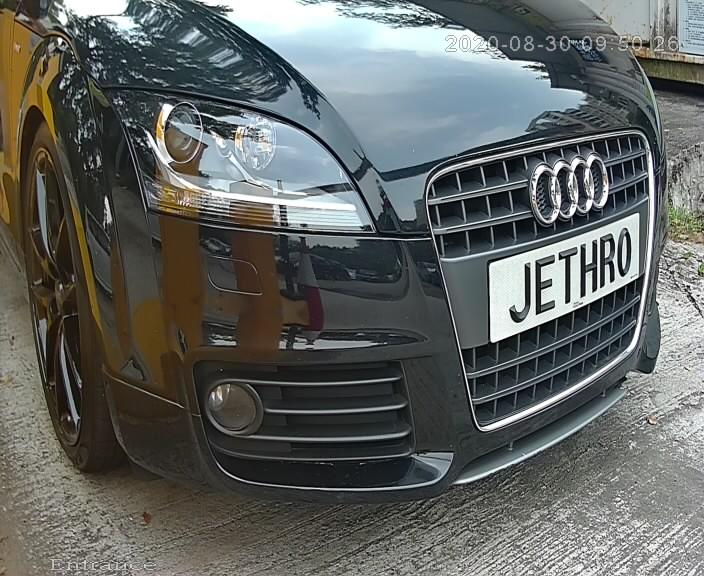License Plate: (485, 214, 639, 345)
